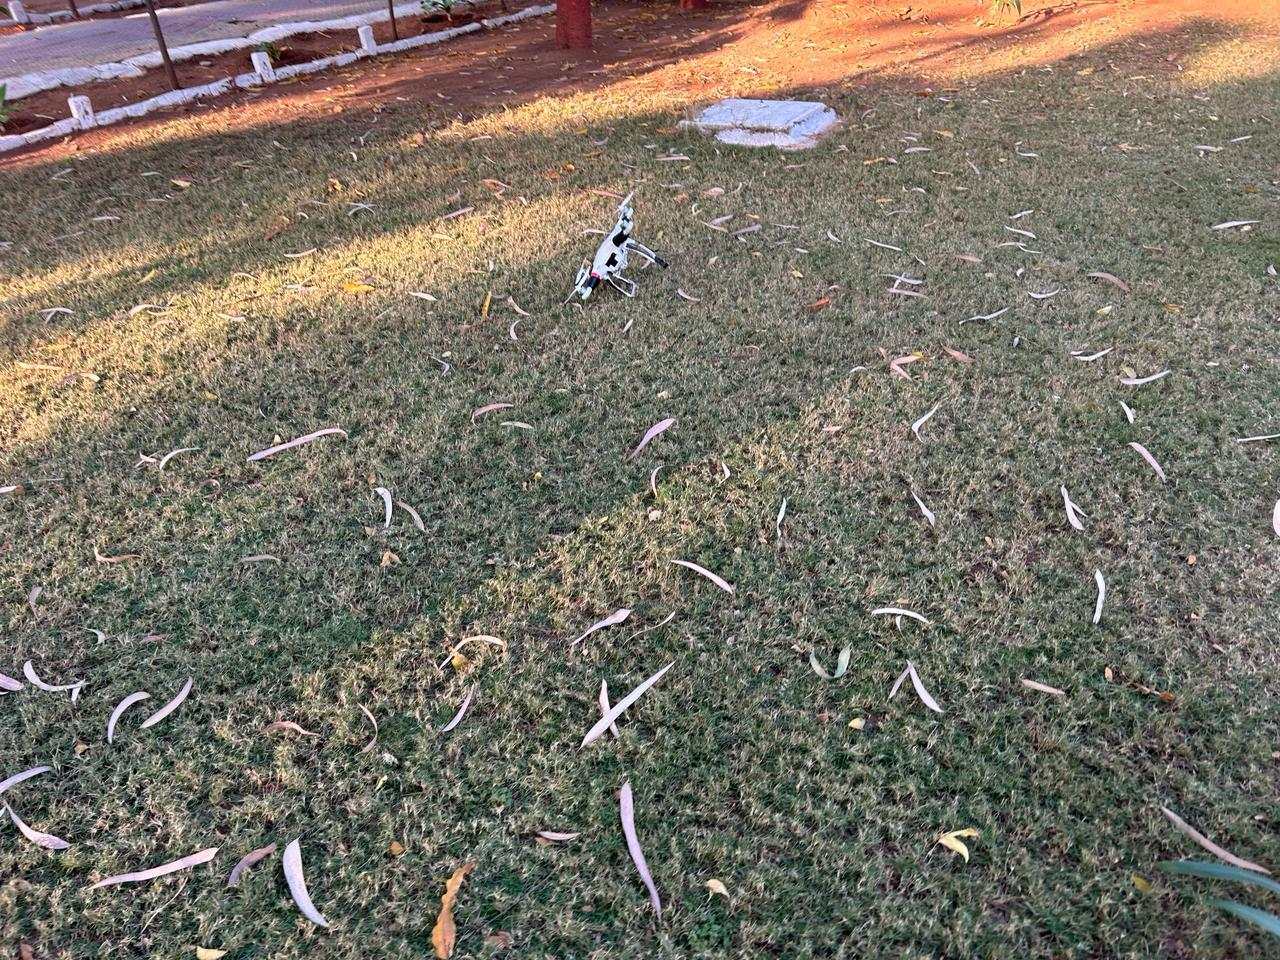drone: (518, 160, 712, 337)
